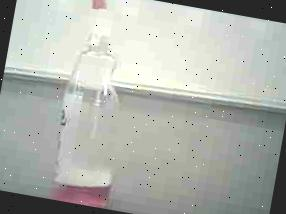hazard: (33, 0, 164, 213)
